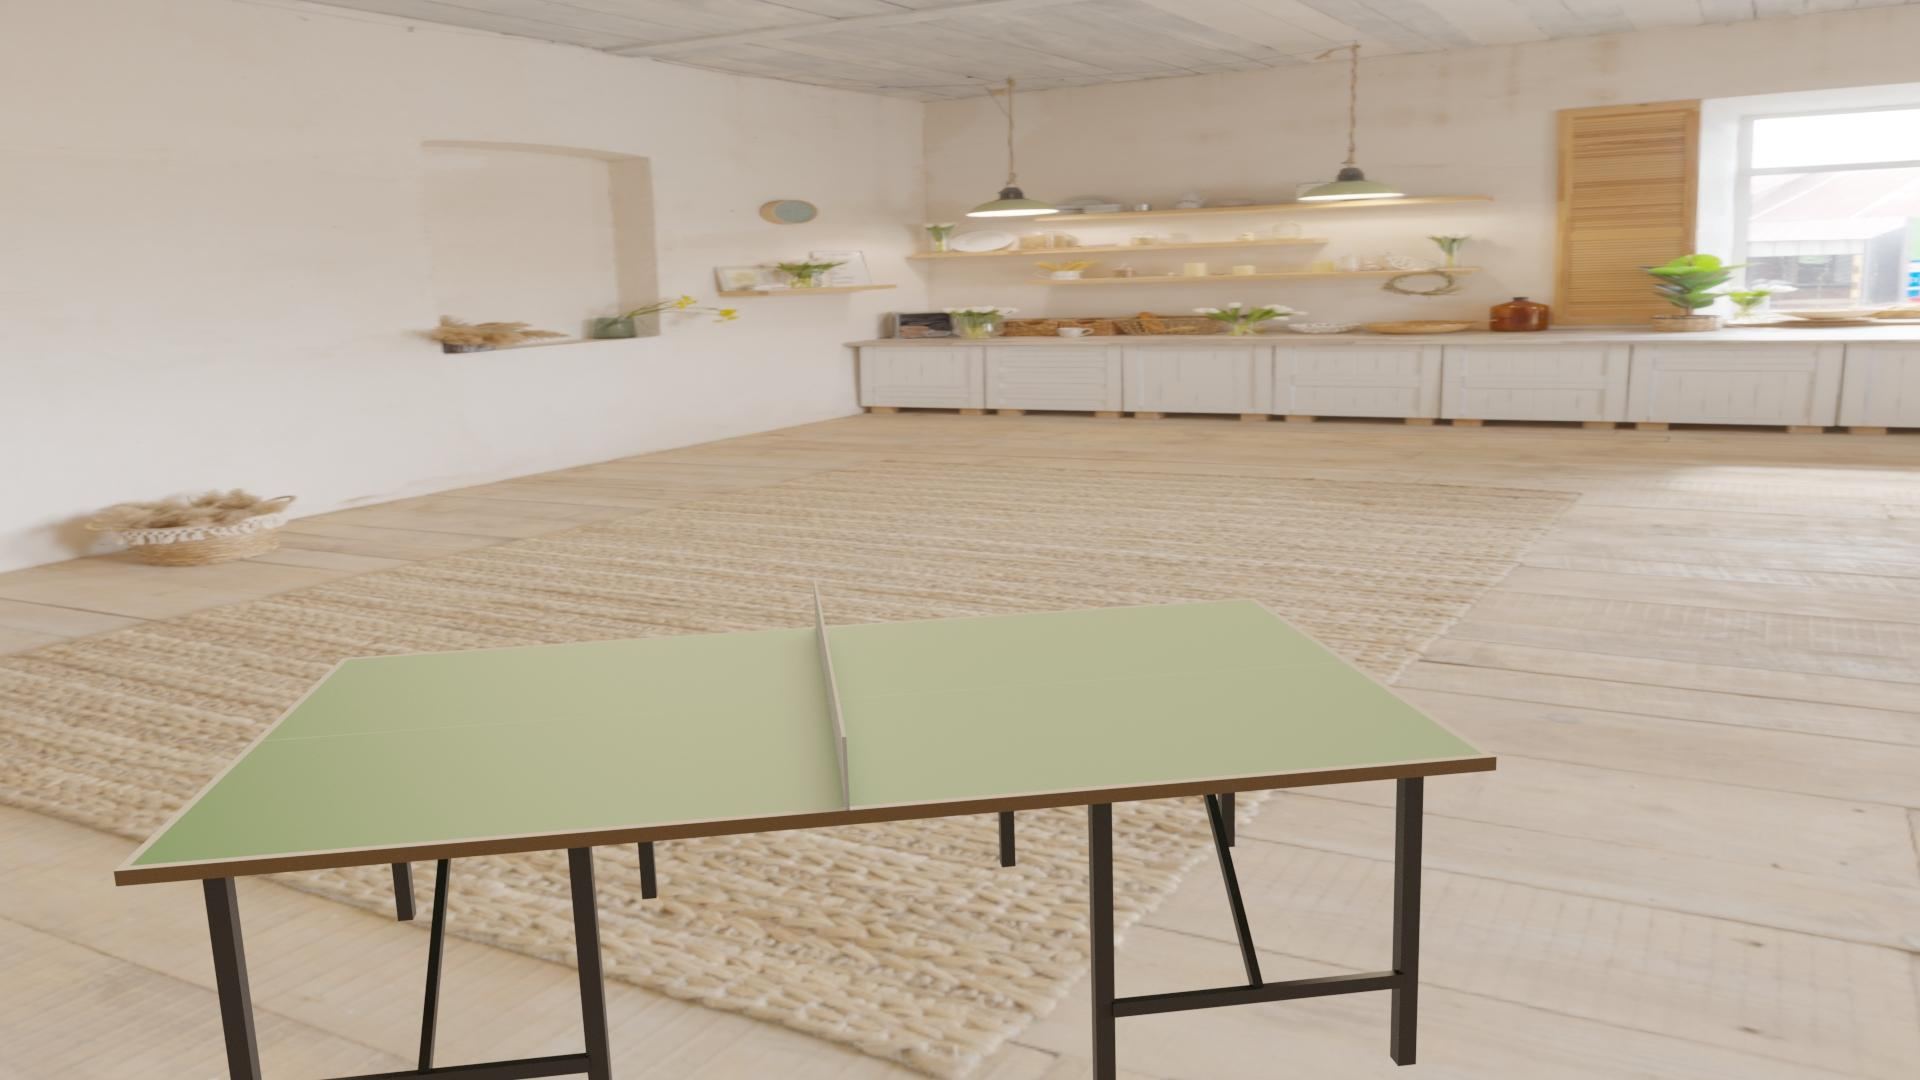table: (129, 600, 1484, 866)
